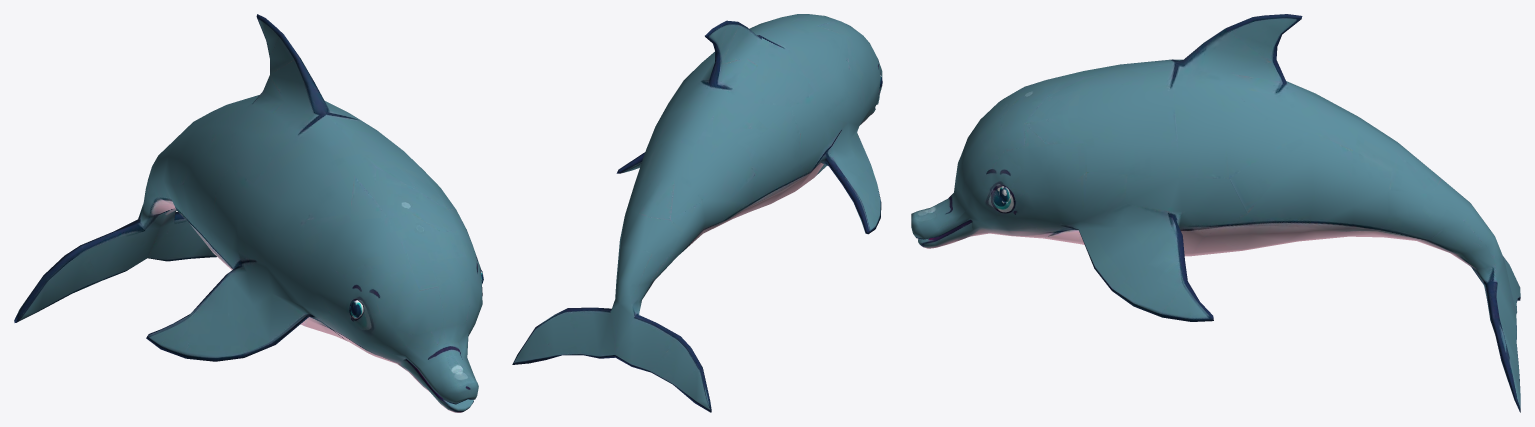
Rendered from dolphin.glb.
The picture shows the model from 3 angles, left to right: view 1: azimuth 30°, elevation 25°; view 2: azimuth 150°, elevation 25°; view 3: azimuth 270°, elevation 25°; orthographic projection. The views are drawn at different scales.
Bounding box in the file's own units: 0.5631 × 0.6173 × 1.
Materials: 1 (1 with a texture image).
